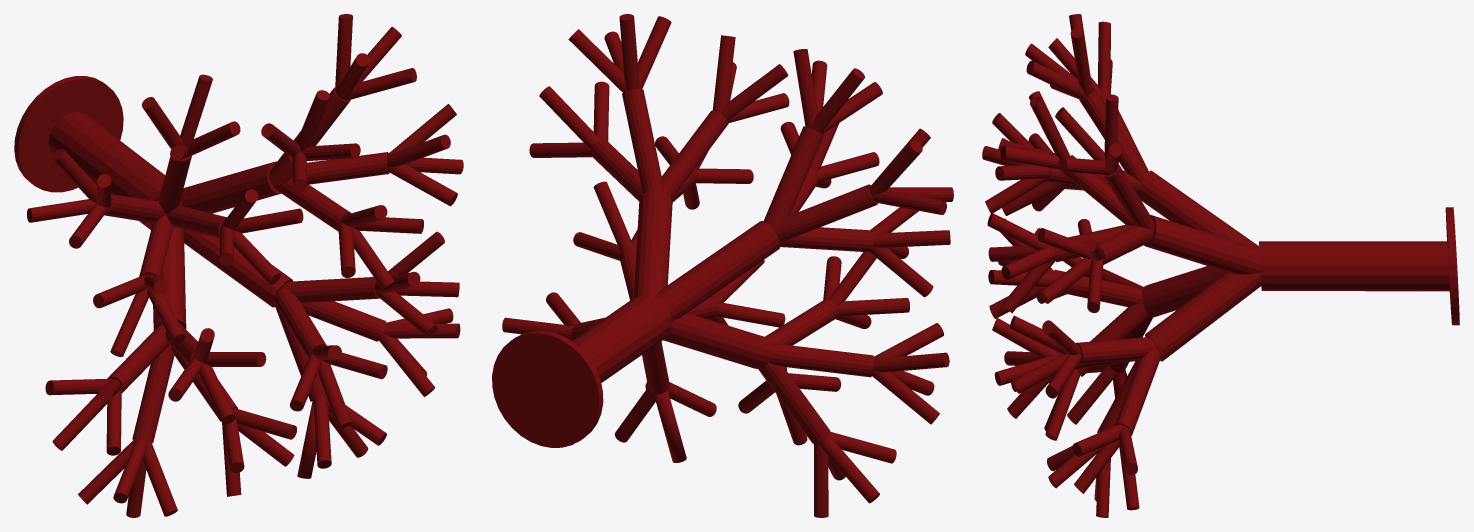
File: Fractal3DPrint.obj
The picture shows the model from 3 angles, left to right: view 1: azimuth 30°, elevation 25°; view 2: azimuth 150°, elevation 25°; view 3: azimuth 270°, elevation 25°; orthographic projection. The views are drawn at different scales.
Parts seen in each view (by area): view 1: Fractal; view 2: Fractal; view 3: Fractal.
Part boxes in pixels (box(x1,y1,x2,y2)): Fractal: box(14, 14, 463, 517); Fractal: box(492, 14, 953, 517); Fractal: box(982, 14, 1459, 517).
Bounding box in the file's own units: 0.1 × 0.1 × 0.1.
